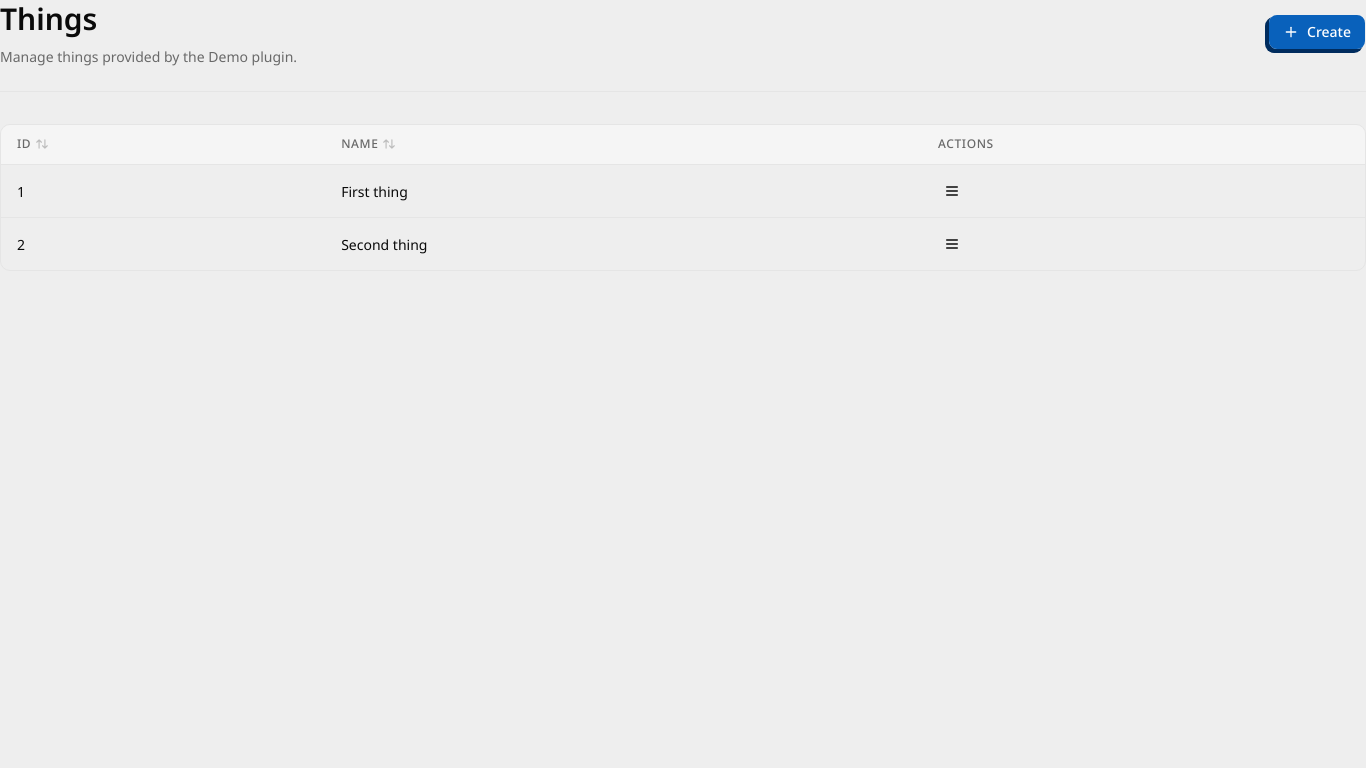
Test case: a crud row's Edit action navigates to the record › still opens a dialog for CREATE, which has no record to address
Expected: the text "First thing" is shown, [325,164,922,218]
What coordinates should you click on to do the following:
click the button "Create"
I would click on:
 (1317, 32)
Its box is [1268,14,1365,50].
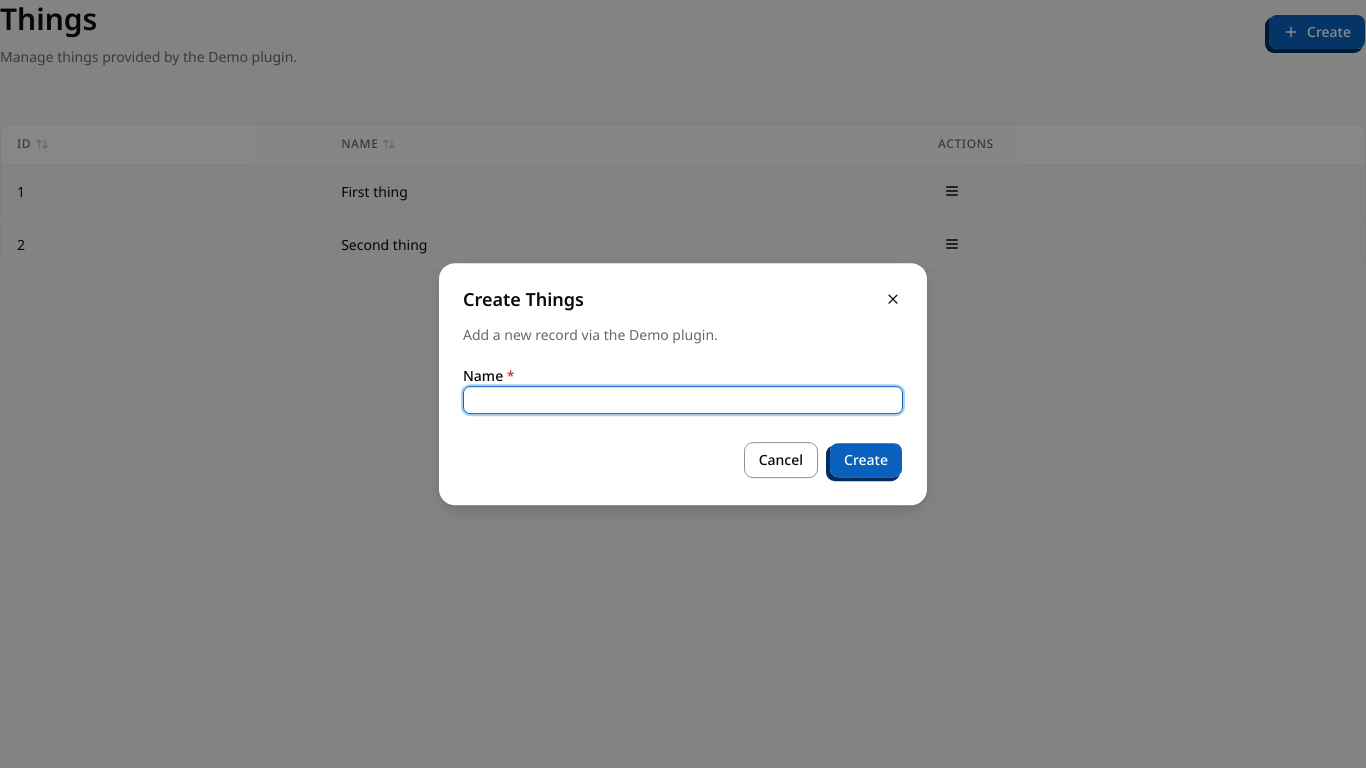
Result: the dialog is shown at [439,263,927,505]
